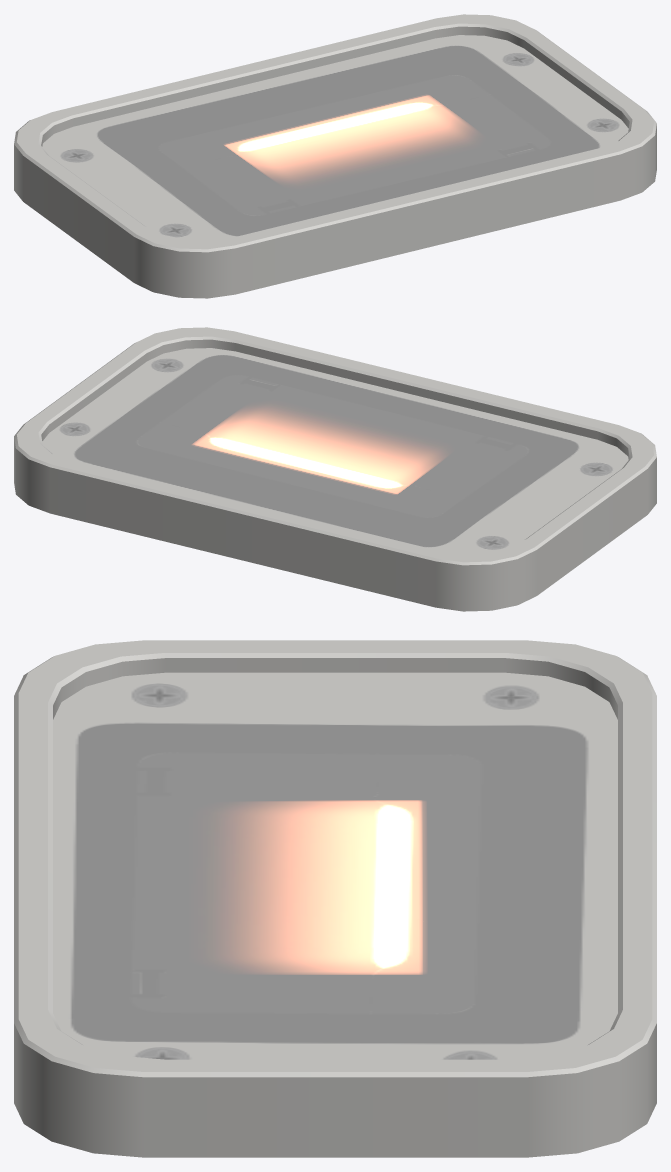
File: SM_Lamp_3_4.fbx
The picture shows the model from 3 angles, top to bottom: view 1: azimuth 30°, elevation 25°; view 2: azimuth 150°, elevation 25°; view 3: azimuth 270°, elevation 25°; orthographic projection. The views are drawn at different scales.
Parts seen in each view (by area): view 1: SM_Lamp_3_4_LOD0; view 2: SM_Lamp_3_4_LOD0; view 3: SM_Lamp_3_4_LOD0.
Part boxes in pixels (x1,y1,x2,y2): SM_Lamp_3_4_LOD0: (14,14,656,298); SM_Lamp_3_4_LOD0: (14,327,656,611); SM_Lamp_3_4_LOD0: (14,640,656,1157).
Size of the model in its own units: 16.03 by 1.43 by 10.
Materials: 1 (1 with a texture image).
